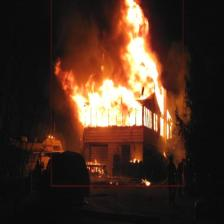fire: (51, 0, 183, 186)
